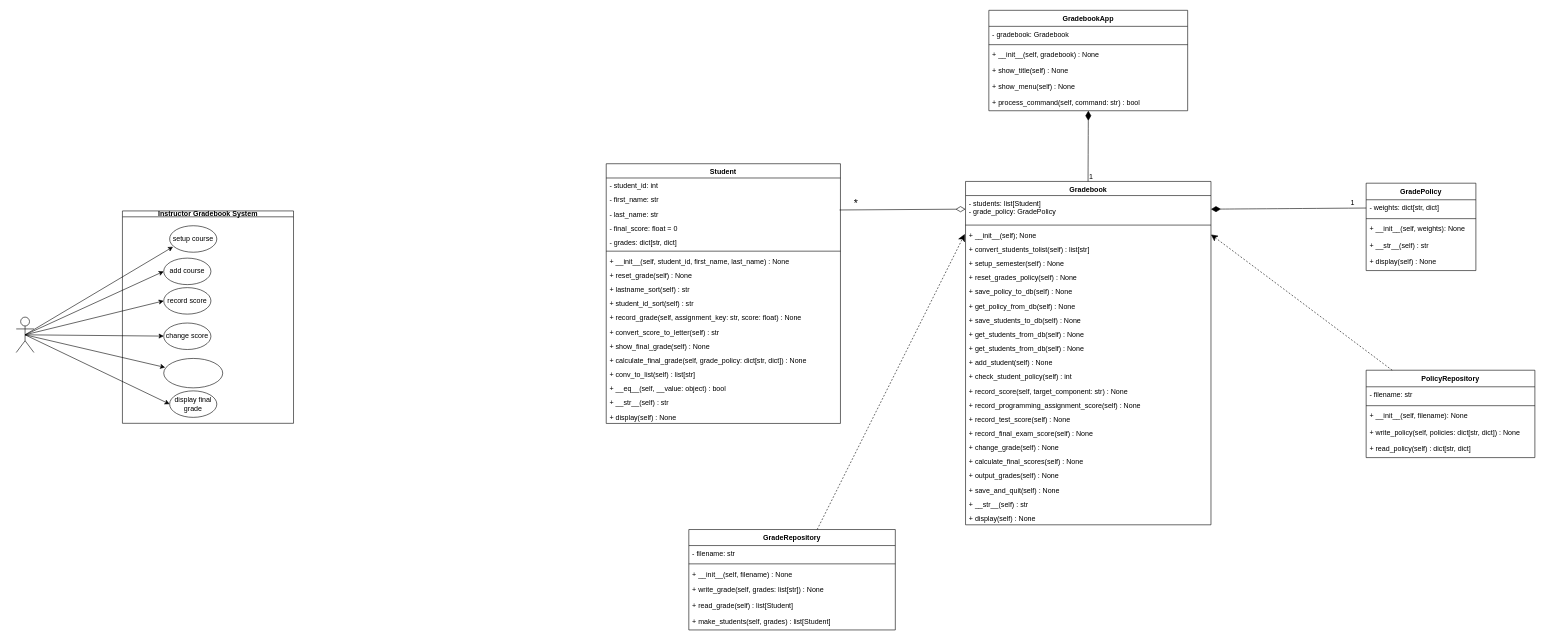
The diagram is 1545 pixels wide and 642 high, and some of its shapes have lost their labels. Each missing label, with the centre of its shape:
"calculate final grade" goes at point (193, 373).
"Instructor" goes at point (25, 335).
